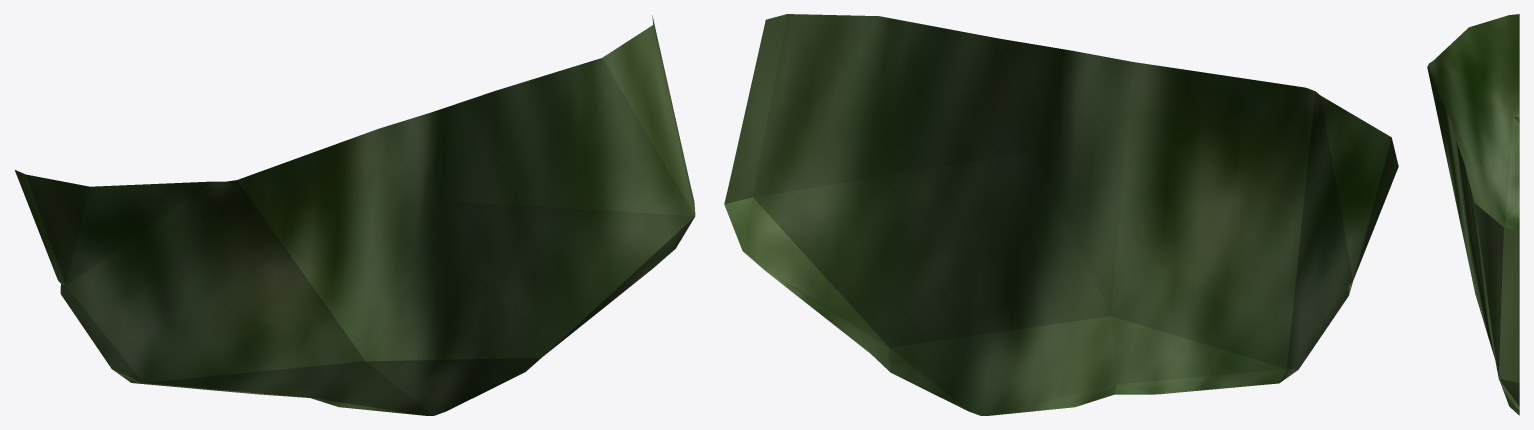
3 renders of one model, left to right at view 1: azimuth 30°, elevation 25°; view 2: azimuth 150°, elevation 25°; view 3: azimuth 270°, elevation 25°, orthographic. The views are drawn at different scales.
Size of the model in its own units: 0.9477 by 0.4645 by 0.1602.
Materials: 1 (1 with a texture image).
